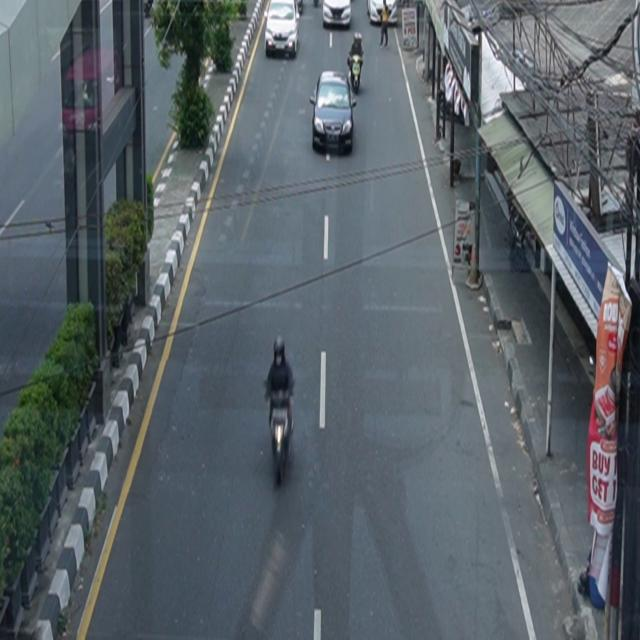car: (310, 70, 358, 156), (265, 1, 301, 59), (323, 1, 352, 29)
